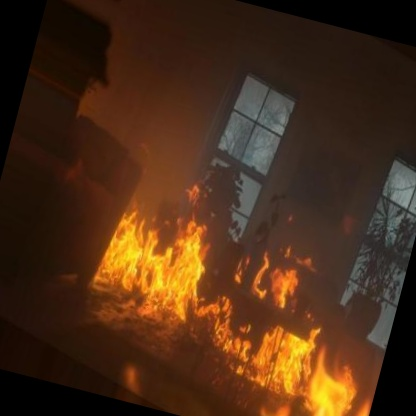fire: (52, 126, 416, 416)
